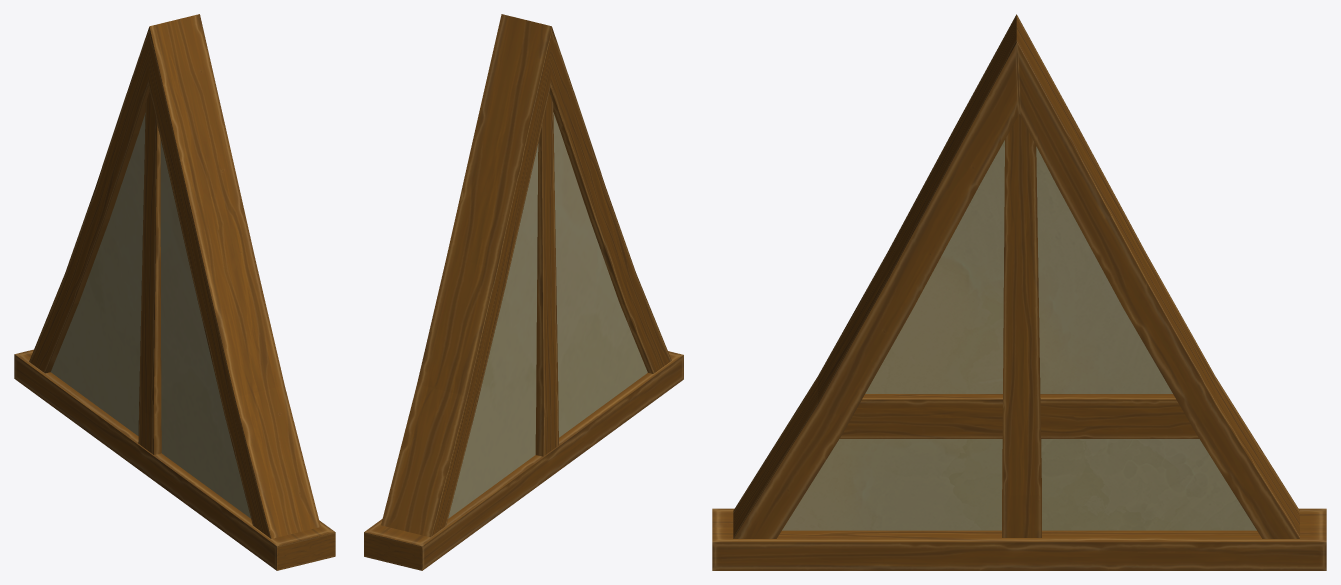
File: SM_House_Roof_01_WallTop_Extended_02.fbx
3 renders of one model, left to right at view 1: azimuth 30°, elevation 25°; view 2: azimuth 150°, elevation 25°; view 3: azimuth 270°, elevation 25°, orthographic. The views are drawn at different scales.
Visible parts, largest first — view 1: SM_House_Roof_01_WallTop_Extended_02; view 2: SM_House_Roof_01_WallTop_Extended_02; view 3: SM_House_Roof_01_WallTop_Extended_02.
Part boxes in pixels (x1,y1,x2,y2): SM_House_Roof_01_WallTop_Extended_02: (14, 14, 335, 570); SM_House_Roof_01_WallTop_Extended_02: (364, 14, 683, 570); SM_House_Roof_01_WallTop_Extended_02: (712, 14, 1326, 570).
Size of the model in its own units: 0.412 by 3.02 by 3.2.
